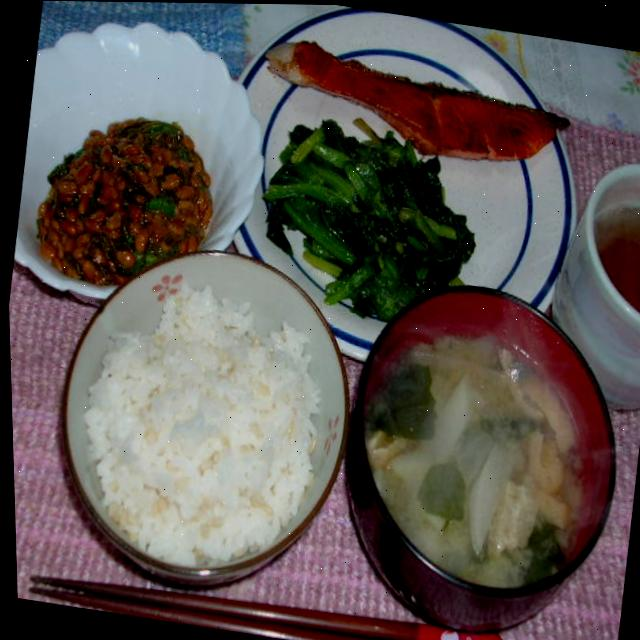蔬菜料理: (228, 82, 502, 356)
